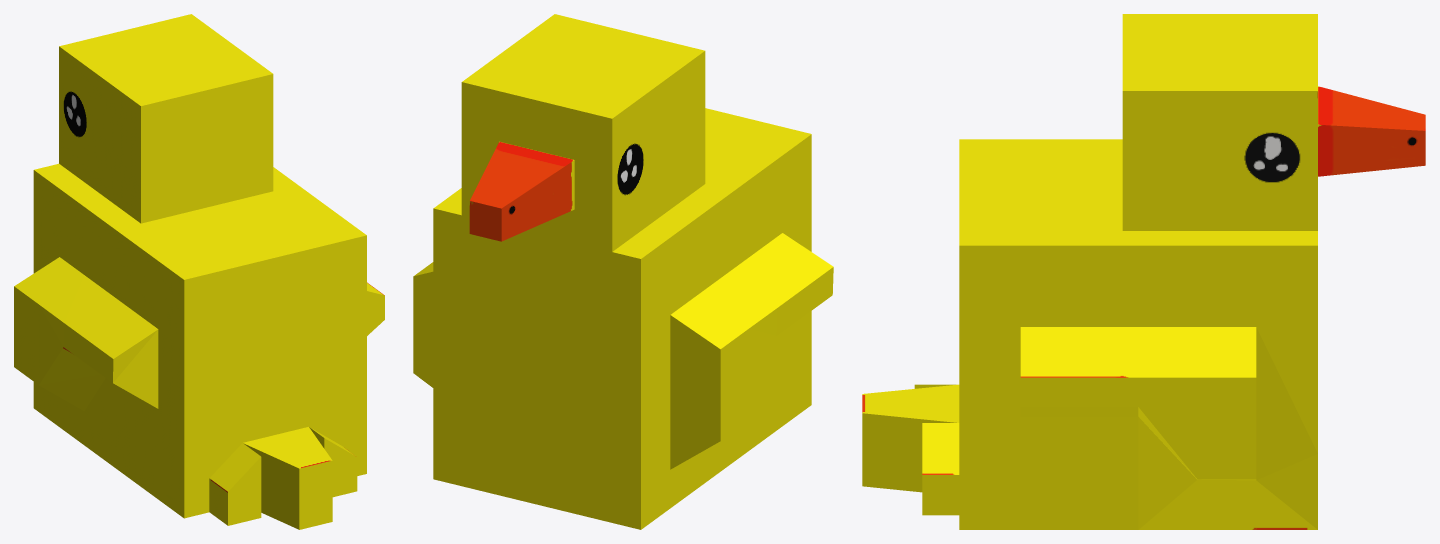
The model's file is Chick.obj.
3 renders of one model, left to right at view 1: azimuth 30°, elevation 25°; view 2: azimuth 150°, elevation 25°; view 3: azimuth 270°, elevation 25°, orthographic. The views are drawn at different scales.
Parts seen in each view (by area): view 1: Cube; view 2: Cube; view 3: Cube.
Boxes of the visible parts, x1,y1,x2,y2 form: Cube: [14, 14, 384, 529]; Cube: [413, 14, 833, 529]; Cube: [862, 14, 1425, 529].
Bounding box in the file's own units: 2.08 × 2.61 × 3.14.
1 material, 1 textured.
